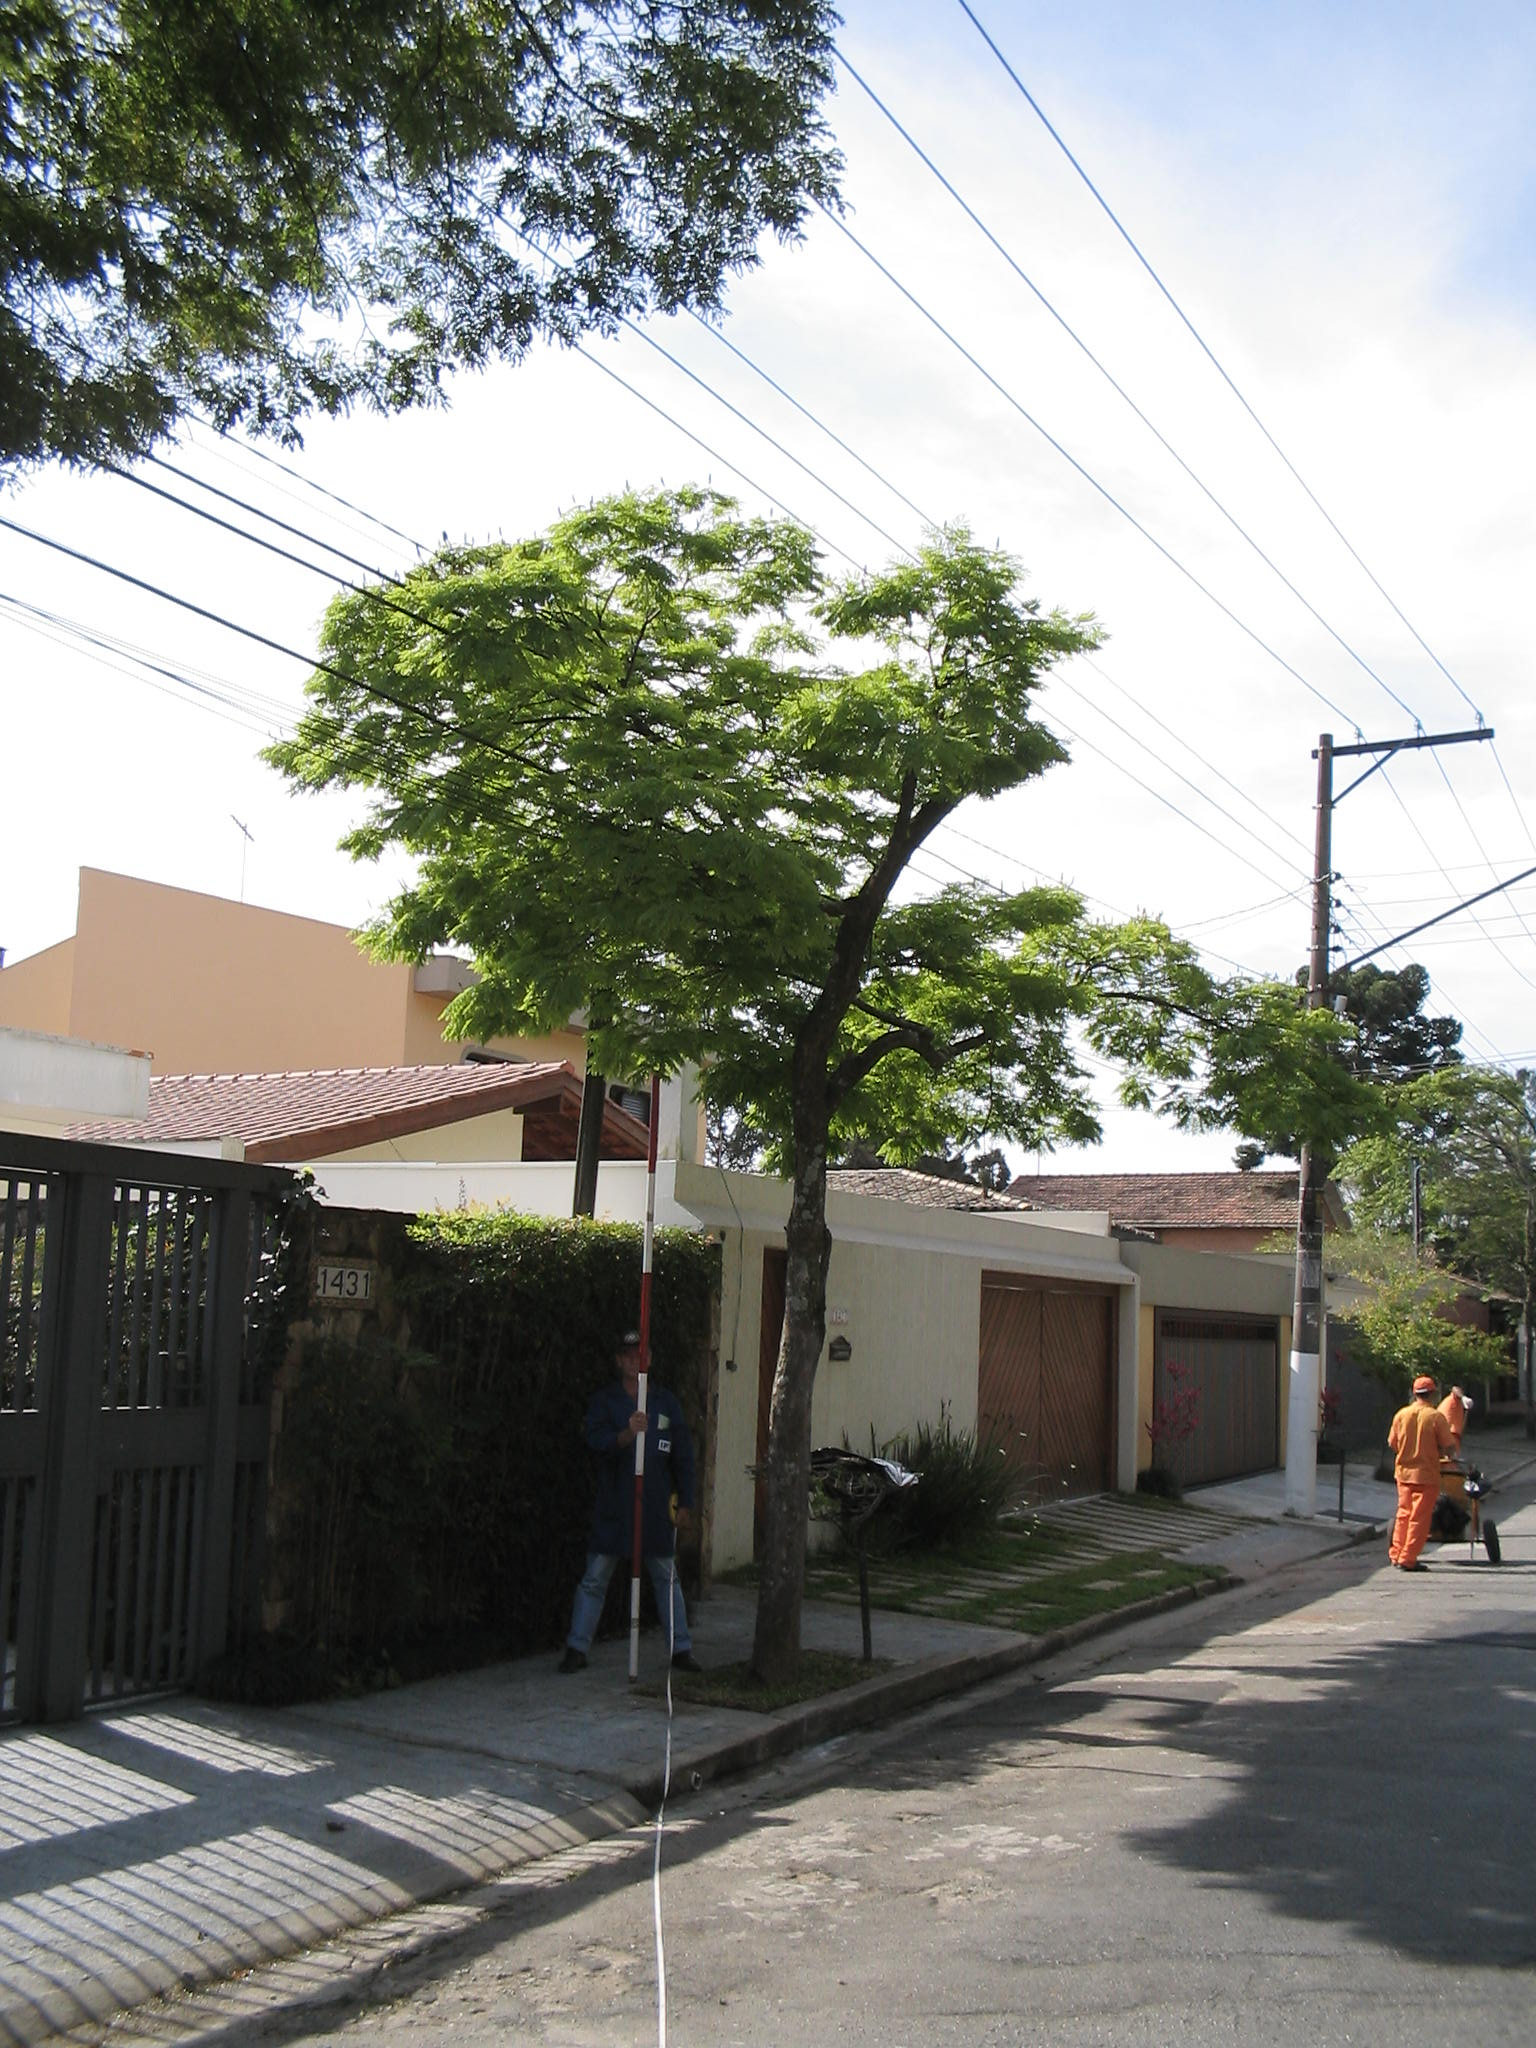crown: (265, 479, 1404, 1179)
stem: (712, 1116, 887, 1679)
stick: (602, 1079, 694, 1684)
tree: (260, 476, 1412, 1690)
